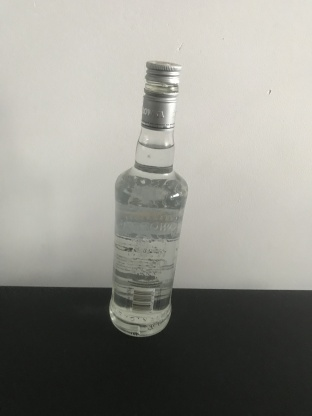nakretka: (140, 60, 182, 131)
